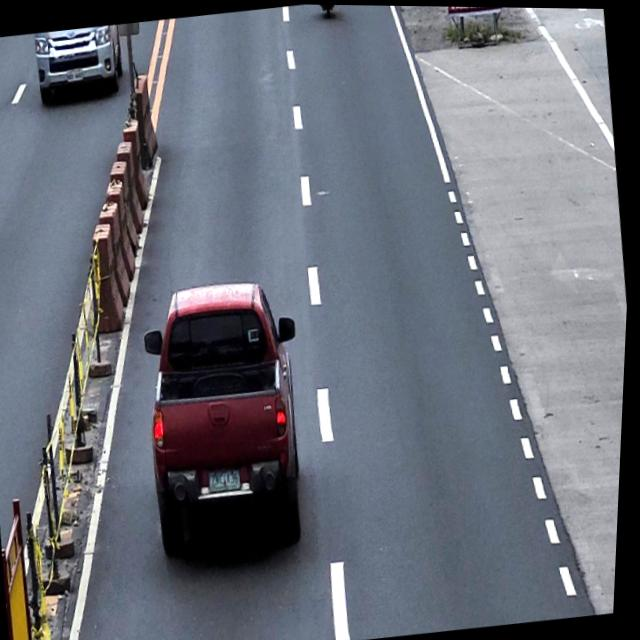Car: (132, 272, 326, 561), (31, 22, 127, 103)
License-Plate: (210, 465, 247, 492), (65, 66, 85, 83)
